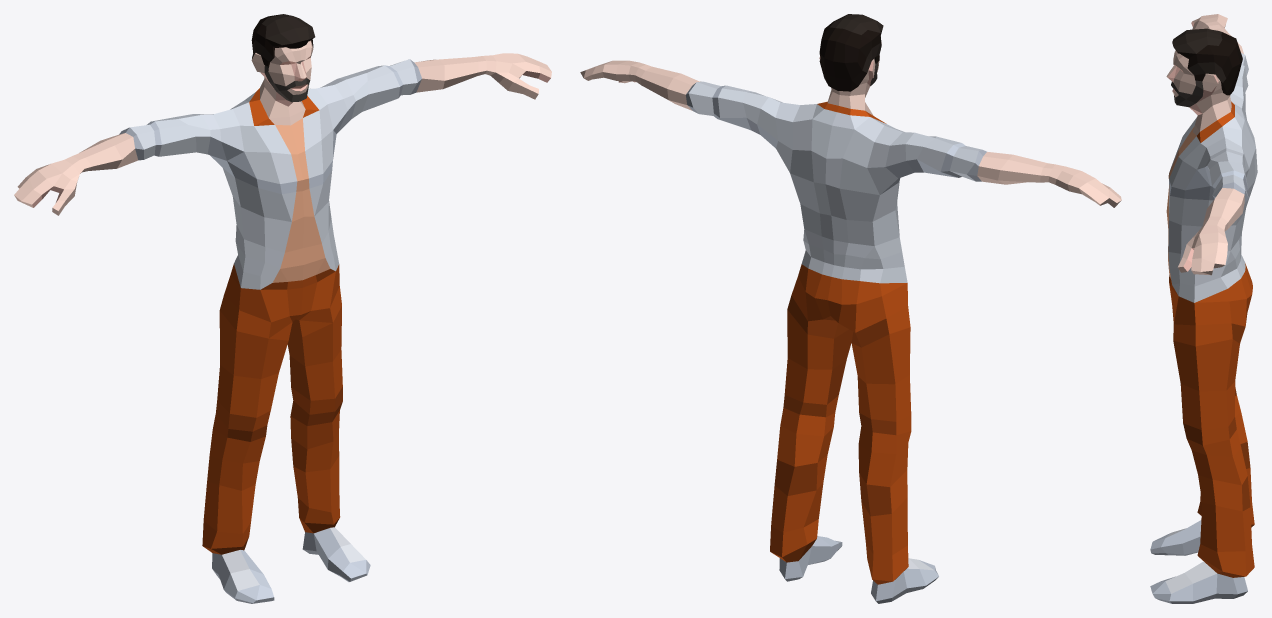
The model's file is AmirO.fbx.
3 renders of one model, left to right at view 1: azimuth 30°, elevation 25°; view 2: azimuth 150°, elevation 25°; view 3: azimuth 270°, elevation 25°, orthographic. The views are drawn at different scales.
Parts seen in each view (by area): view 1: casual_Male_G; view 2: casual_Male_G; view 3: casual_Male_G.
Boxes of the visible parts, x1,y1,x2,y2 form: casual_Male_G: (14, 14, 551, 603); casual_Male_G: (580, 14, 1121, 603); casual_Male_G: (1150, 14, 1257, 603).
Size of the model in its own units: 183 by 182 by 32.64.
1 material, 1 textured.
